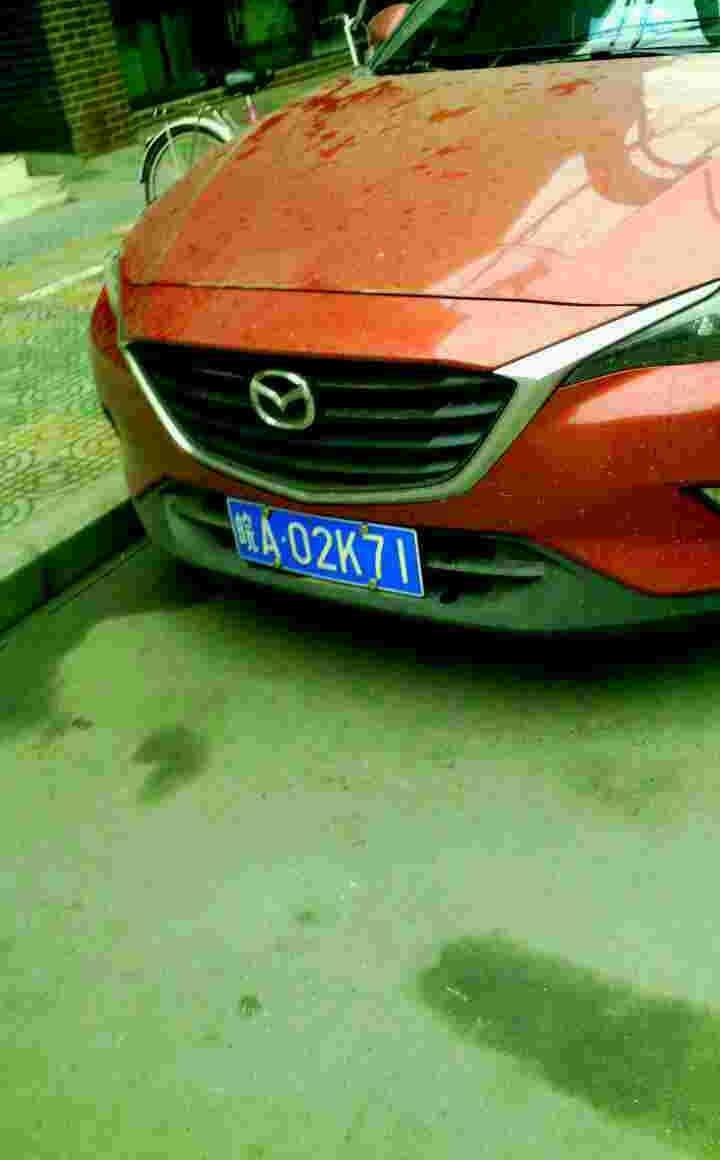plate: (221, 491, 428, 602)
